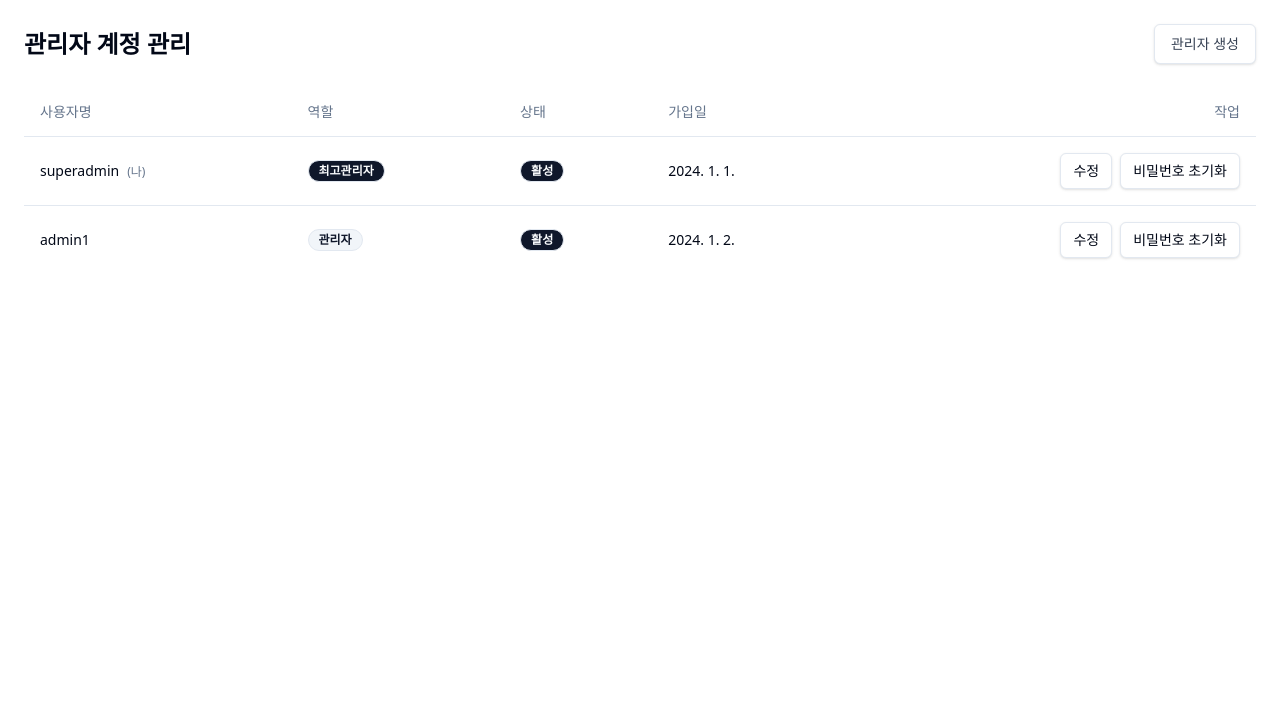
it: AdminUsersPage › REQ-020: 생성 폼 유효성 검사 — password 최소 8자
Expected: the text "superadmin" is shown, [40, 160, 119, 180]
Step 1. Click the button "관리자 생성" → (1205, 44), box [1154, 24, 1256, 64]
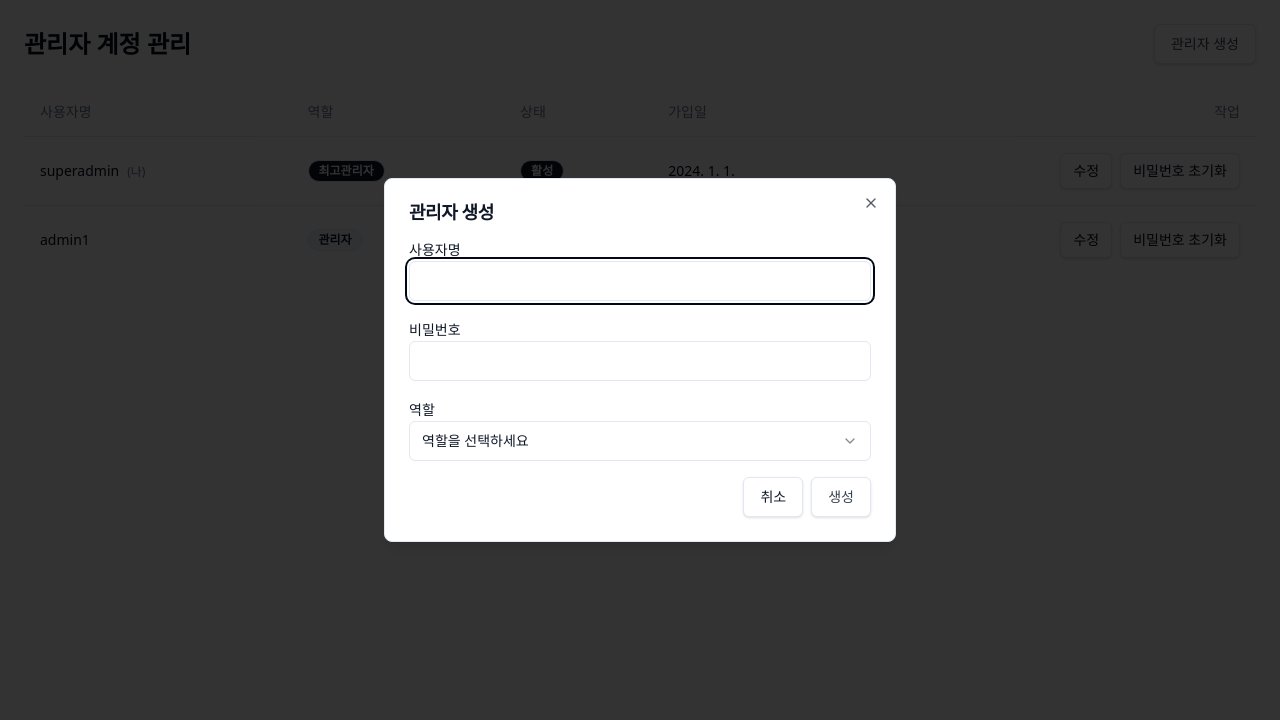
Expected: the dialog is shown, [384, 178, 896, 542]
Step 2. Type "newuser" into the field labelled "사용자명" → (640, 281), box [409, 261, 871, 301]
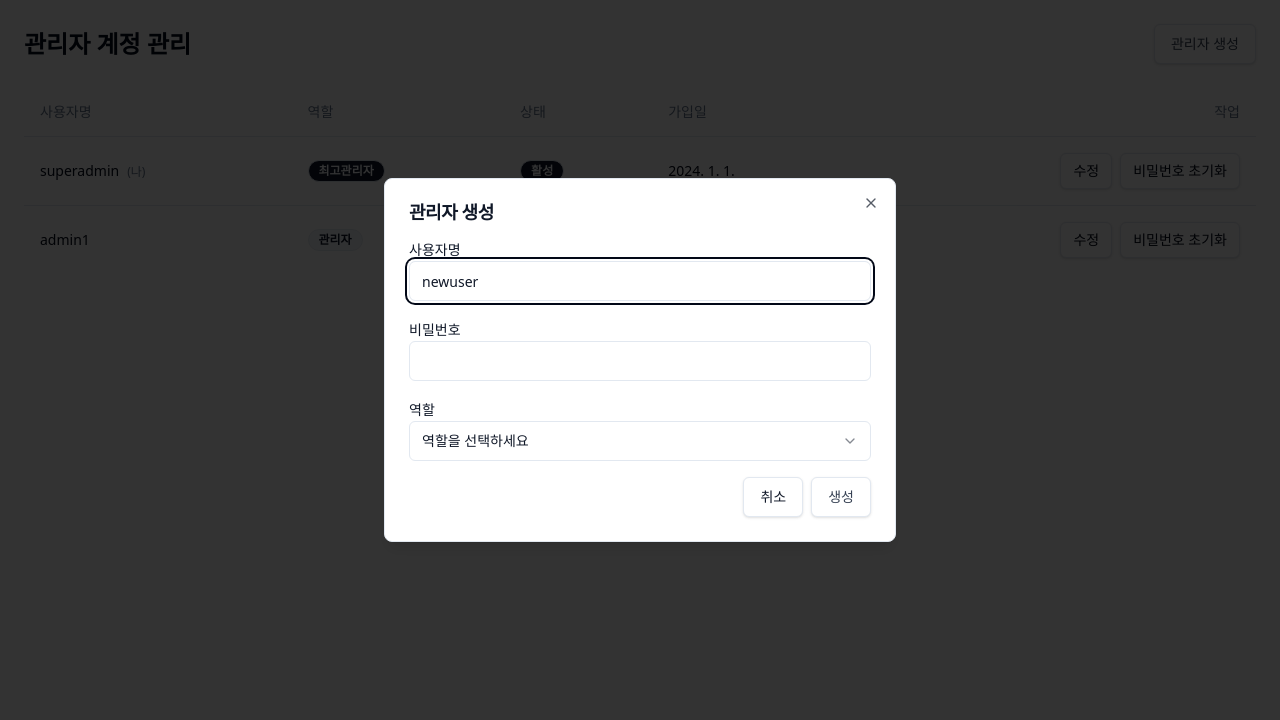
Step 3. Type "short" into the password field labelled "비밀번호" → (640, 361), box [409, 341, 871, 381]
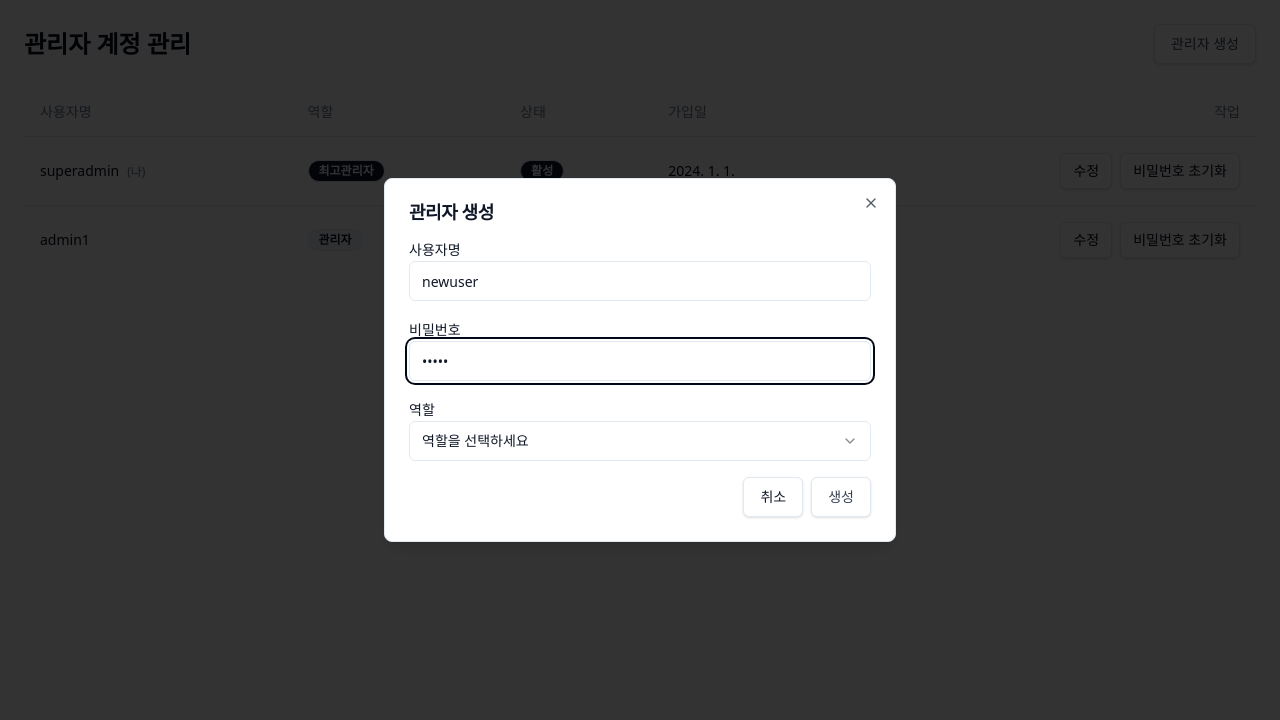
Step 4. Click the button "생성" → (841, 497), box [811, 477, 871, 517]
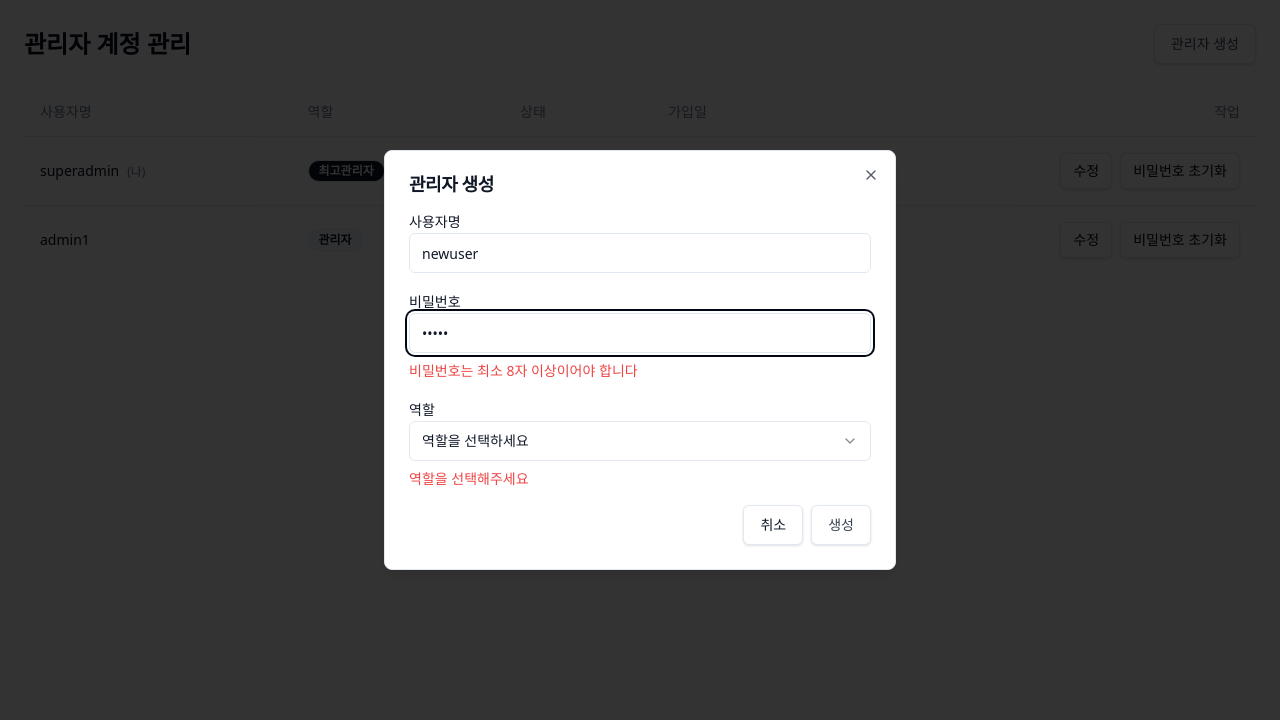
Expected: the text "비밀번호는 최소 8자 이상이어야 합니다" is shown, [409, 361, 638, 380]
